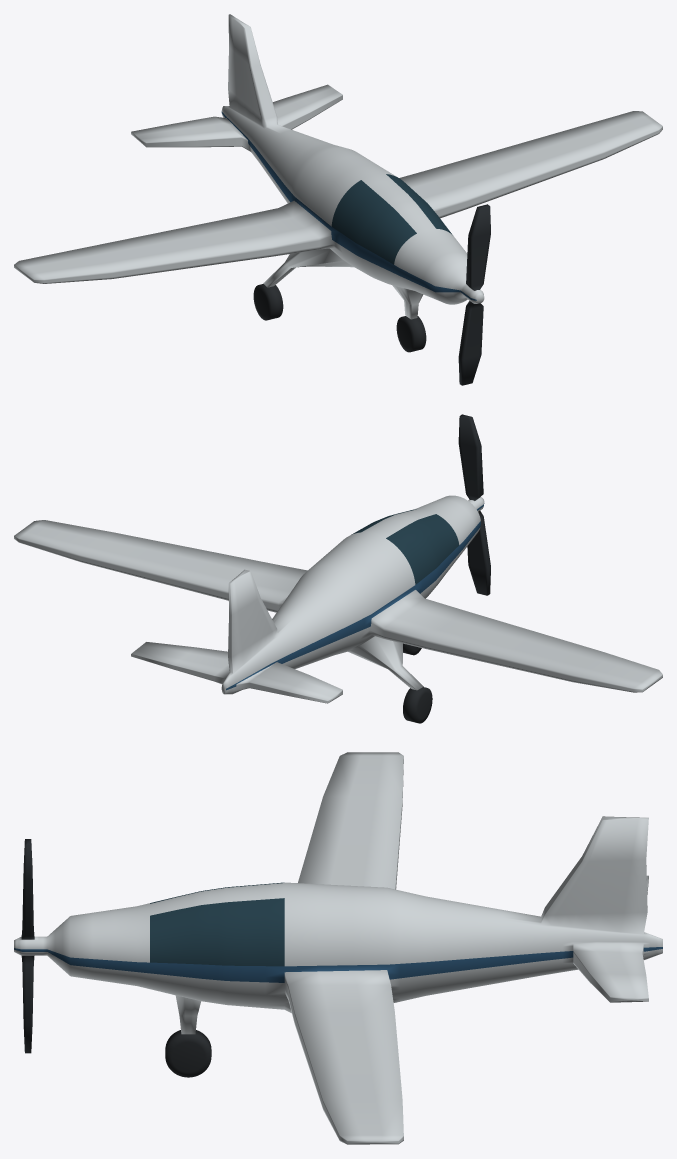
The model's file is A-NEW-20261027-PROPELLER_AIRPLANE-001_LOD0_R1.fbx.
3 views of the same model, one above another, from view 1: azimuth 30°, elevation 25°; view 2: azimuth 150°, elevation 25°; view 3: azimuth 270°, elevation 25° (orthographic). The views are drawn at different scales.
Parts seen in each view (by area): view 1: original airplane fuselage wings tail propeller and gear, original fixed wheel 2, original fixed wheel 0; view 2: original airplane fuselage wings tail propeller and gear, original fixed wheel 2; view 3: original airplane fuselage wings tail propeller and gear, original fixed wheel 0.
Boxes of the visible parts, left/top/right/bottom form: original airplane fuselage wings tail propeller and gear: left=14, top=14, right=662, bottom=385; original fixed wheel 2: left=253, top=284, right=283, bottom=320; original fixed wheel 0: left=396, top=316, right=426, bottom=352; original airplane fuselage wings tail propeller and gear: left=14, top=414, right=662, bottom=703; original fixed wheel 2: left=403, top=687, right=432, bottom=723; original airplane fuselage wings tail propeller and gear: left=14, top=752, right=662, bottom=1144; original fixed wheel 0: left=165, top=1030, right=211, bottom=1077.
Size of the model in its own units: 716 by 220 by 506.
